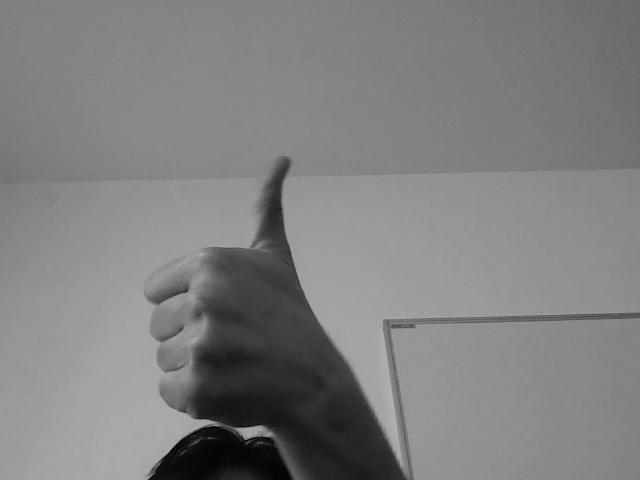friend: (137, 149, 346, 441)
